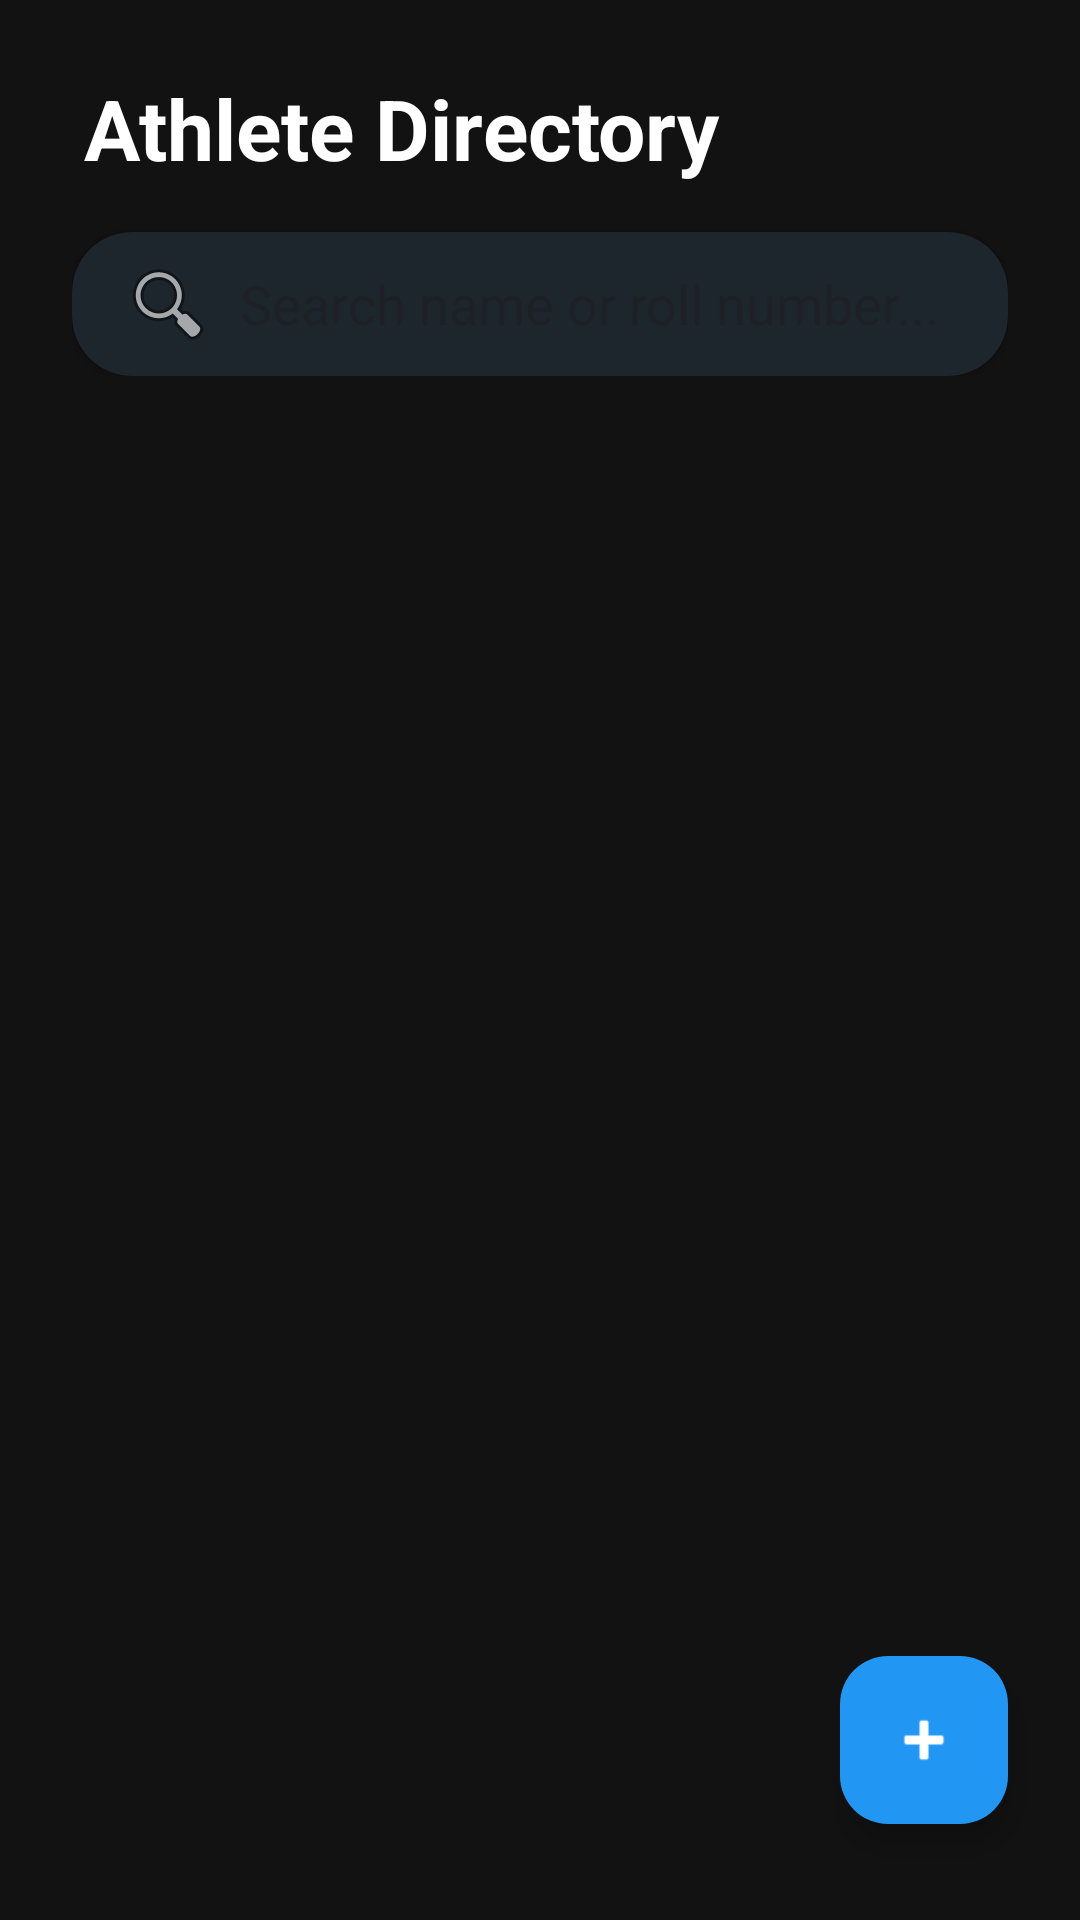

Named icons in this screenshot (1080px×1920px) and their centers, point (x, y):
Add New Athlete: point (924, 1740)
